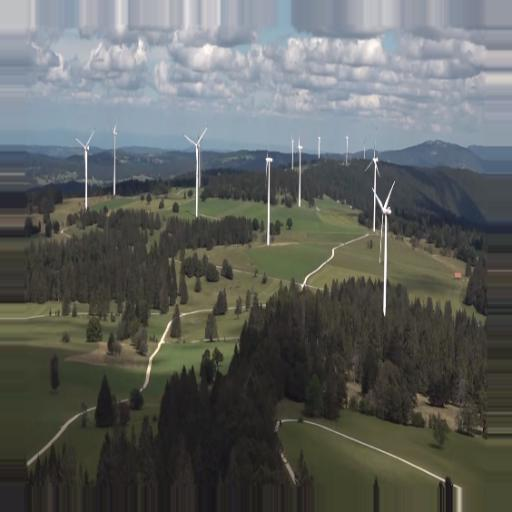wind turbine: (370, 180, 395, 314), (181, 126, 209, 218), (74, 129, 94, 211)
